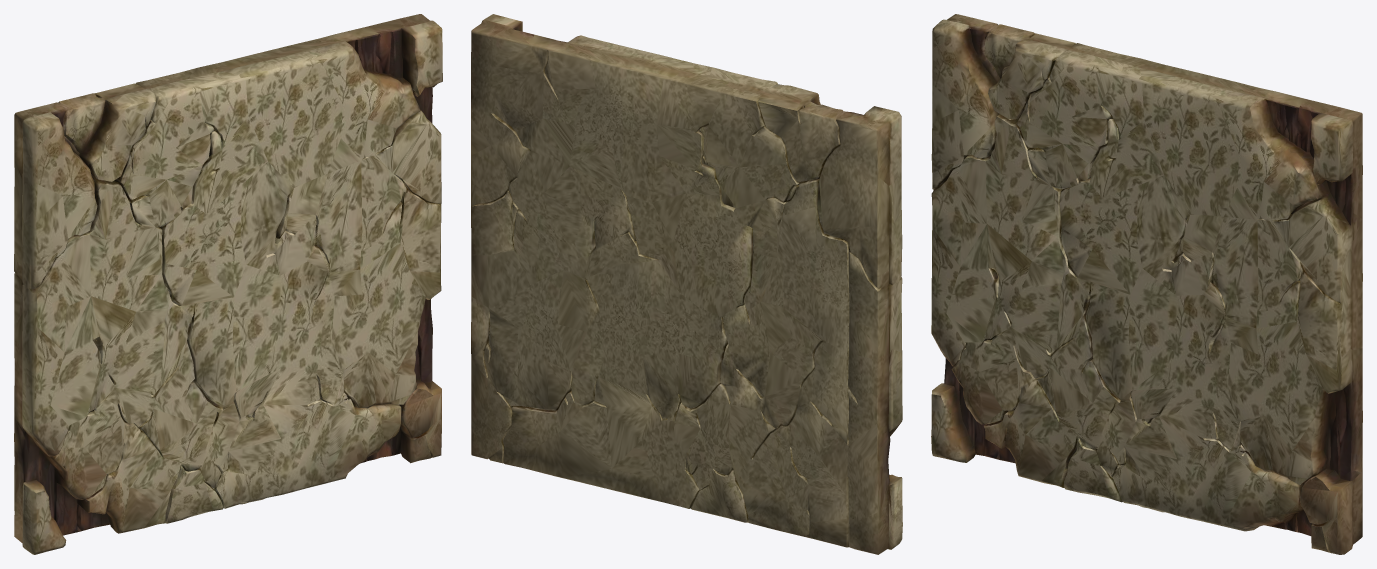
The model's file is finish_wallpaper_damaged_idle.glb.
3 renders of one model, left to right at view 1: azimuth 30°, elevation 25°; view 2: azimuth 150°, elevation 25°; view 3: azimuth 330°, elevation 25°, orthographic.
Visible parts, largest first — view 1: tripo_node_6d38e0d9-7e3f-4ca2-a25d-fc1bec3f5e90; view 2: tripo_node_6d38e0d9-7e3f-4ca2-a25d-fc1bec3f5e90; view 3: tripo_node_6d38e0d9-7e3f-4ca2-a25d-fc1bec3f5e90.
Boxes of the visible parts, box(x1,y1,x2,y2) form: tripo_node_6d38e0d9-7e3f-4ca2-a25d-fc1bec3f5e90: box(14, 14, 442, 554); tripo_node_6d38e0d9-7e3f-4ca2-a25d-fc1bec3f5e90: box(471, 14, 902, 554); tripo_node_6d38e0d9-7e3f-4ca2-a25d-fc1bec3f5e90: box(931, 14, 1362, 554).
Bounding box in the file's own units: 0.9991 × 0.9995 × 0.1001.
1 material, 1 textured.
